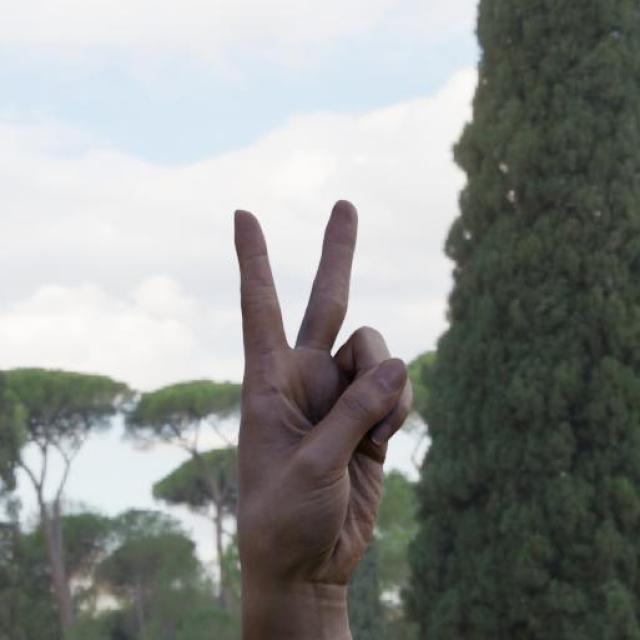V: (229, 199, 416, 592)
